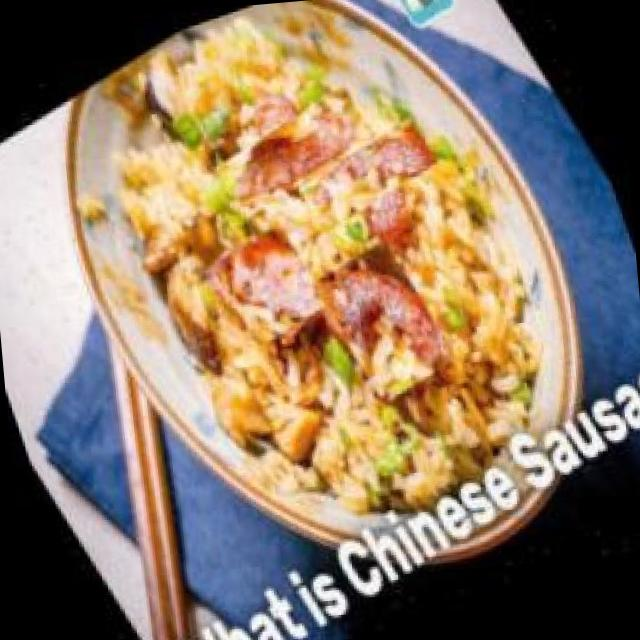chinese_sausage: (301, 226, 468, 418), (211, 68, 379, 236), (294, 99, 444, 249), (201, 212, 337, 355)
